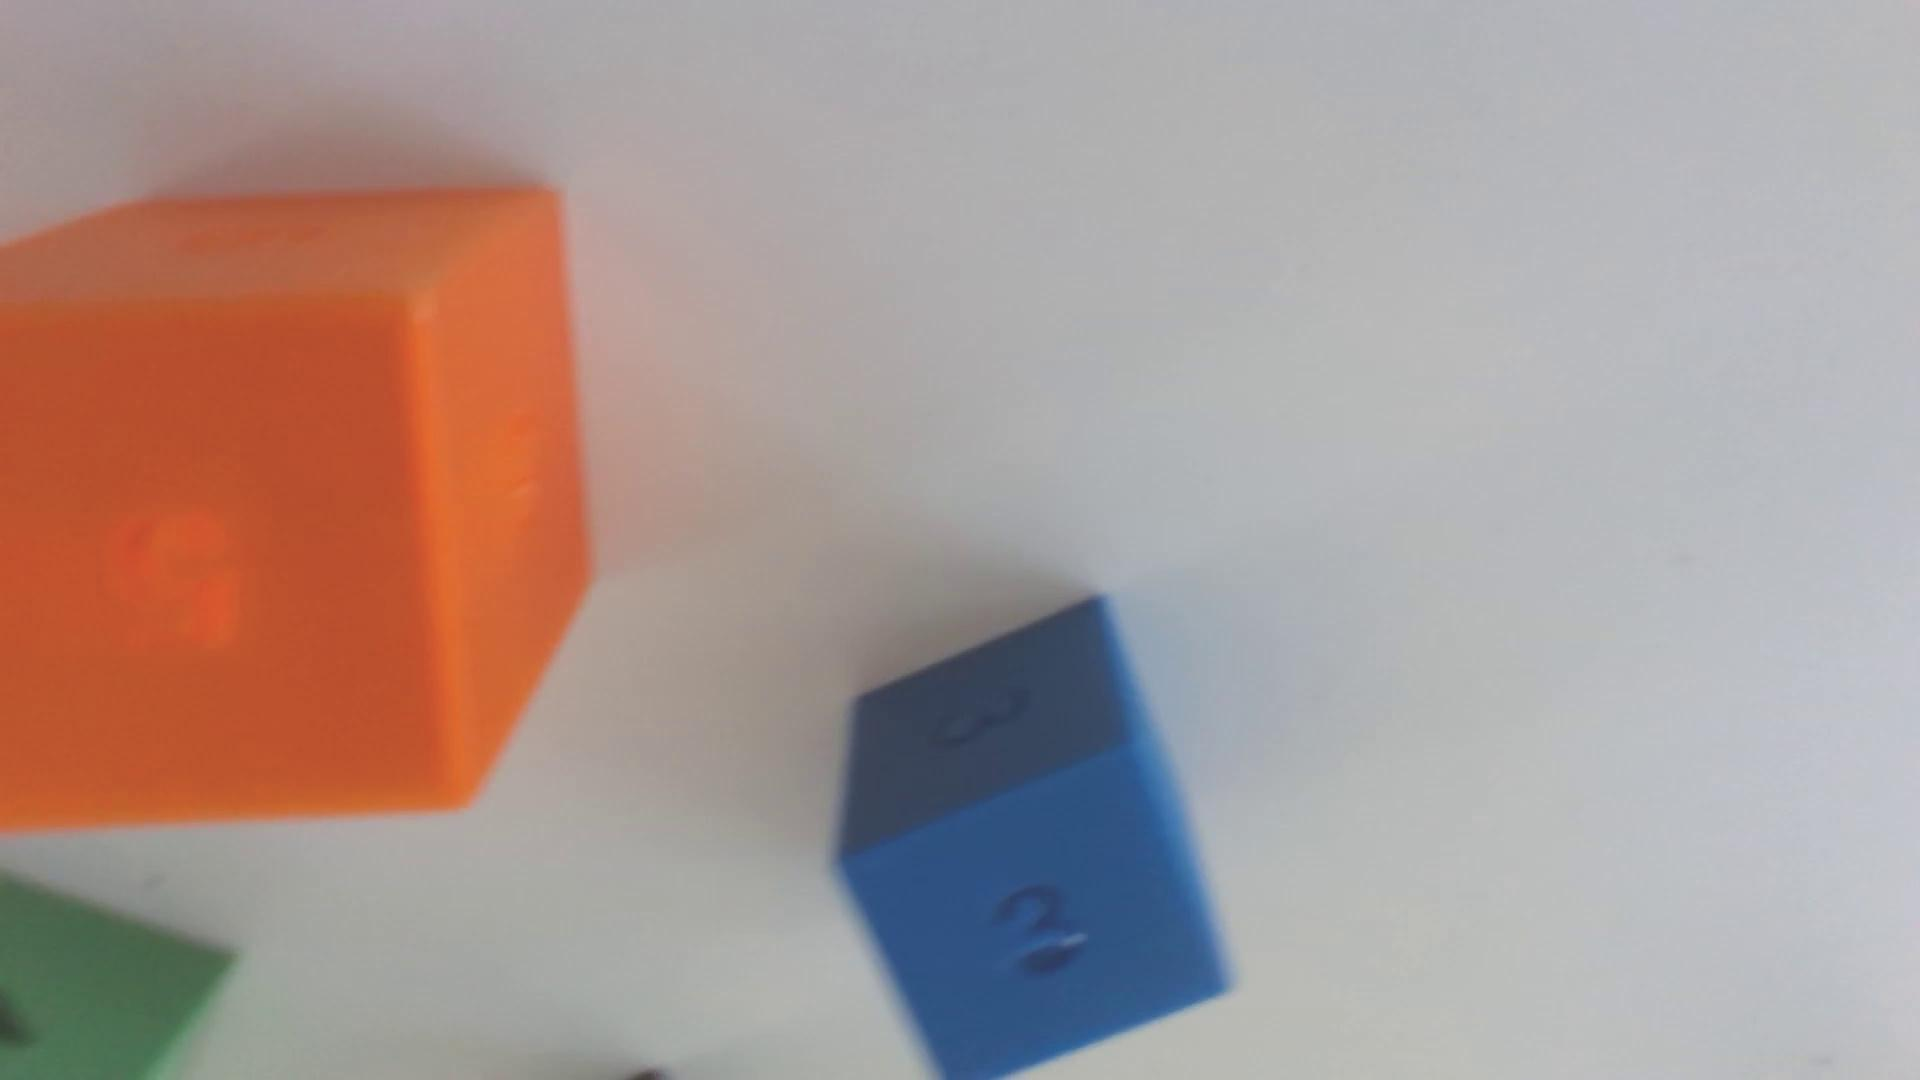black: (632, 1069, 667, 1080)
blue: (835, 597, 1230, 1080)
green: (0, 874, 233, 1080)
orange: (0, 185, 591, 831)
